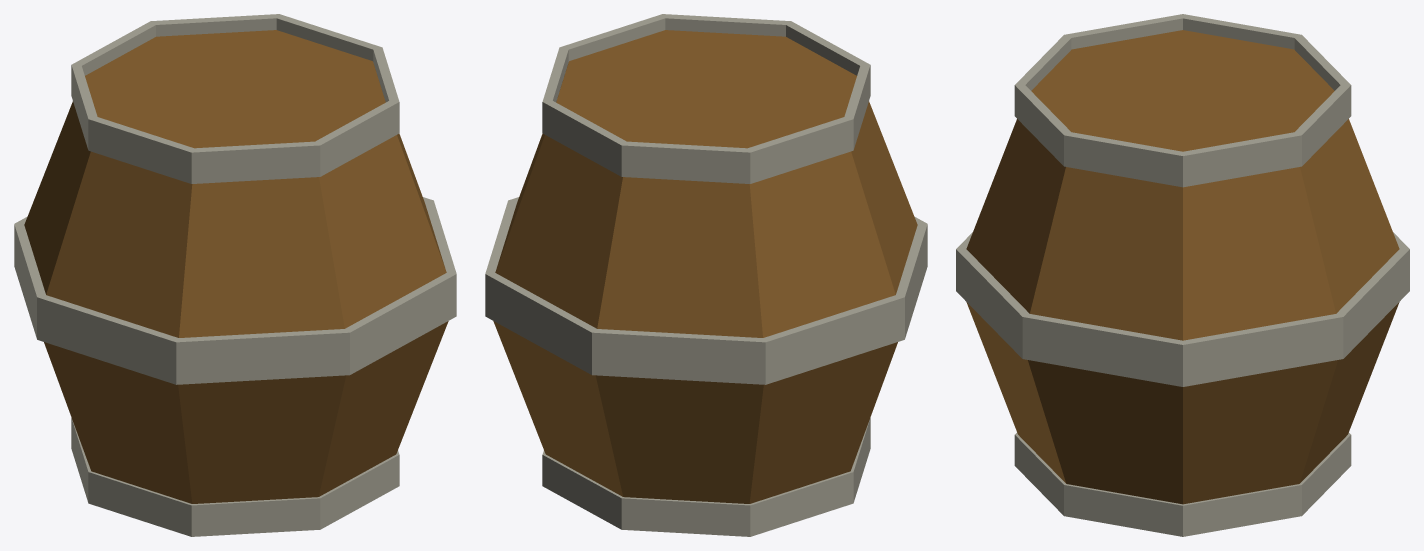
File: Barrel.fbx
3 renders of one model, left to right at view 1: azimuth 30°, elevation 25°; view 2: azimuth 150°, elevation 25°; view 3: azimuth 270°, elevation 25°, orthographic.
Visible parts, largest first — view 1: Barrel; view 2: Barrel; view 3: Barrel.
Part boxes in pixels (x1,y1,x2,y2): Barrel: (14,14,456,536); Barrel: (485,14,927,536); Barrel: (956,14,1409,536).
Size of the model in its own units: 163 by 151 by 163.
